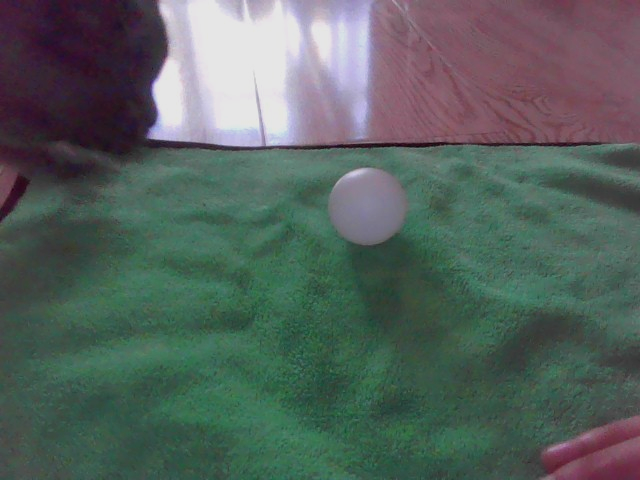ball: (327, 167, 406, 244)
